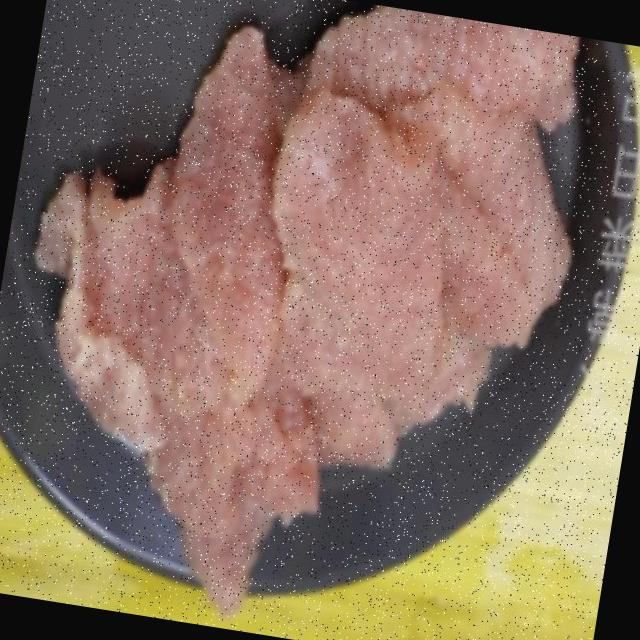pork: (0, 0, 628, 640)
